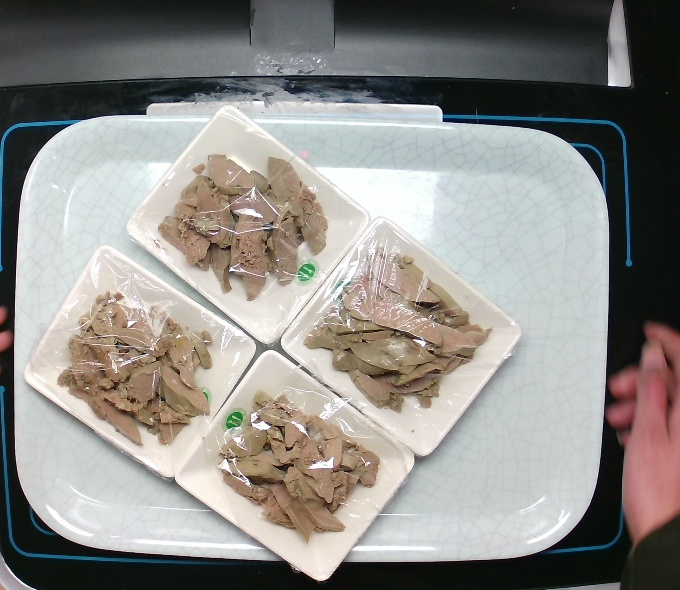wcq-EGan: (292, 244, 498, 418), (151, 147, 333, 306), (213, 388, 385, 551), (54, 287, 217, 451)
